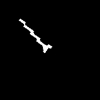half_double_crochet: (19, 19, 51, 52)
